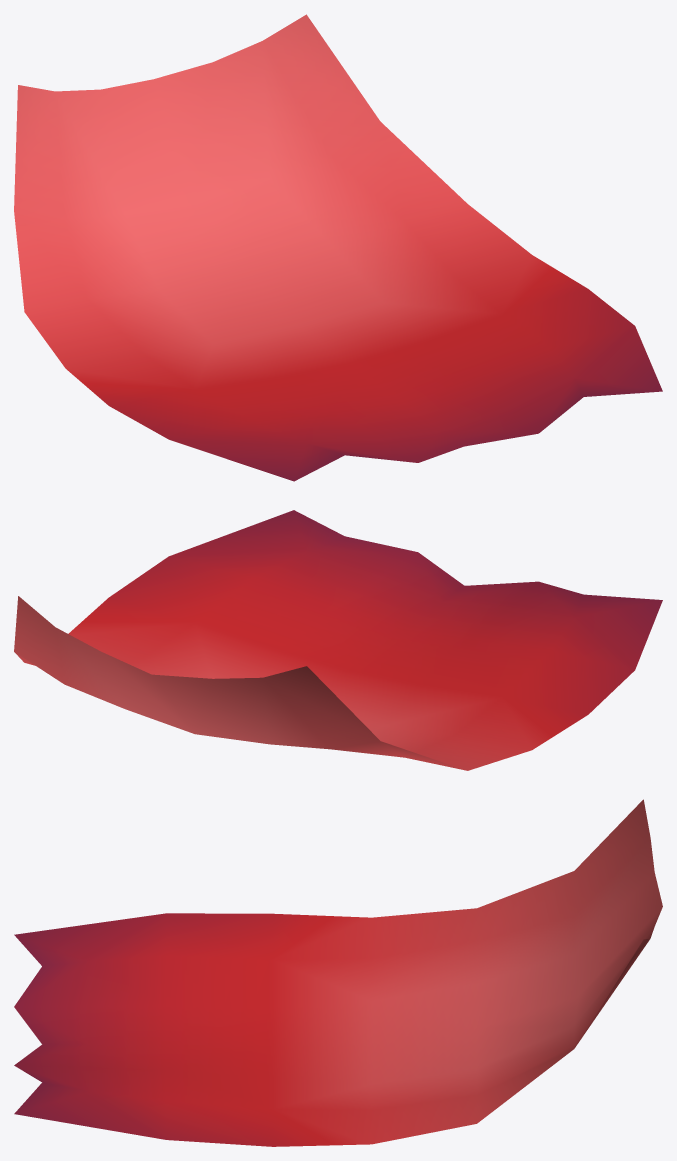
File: Cape.glb
3 views of the same model, one above another, from view 1: azimuth 30°, elevation 25°; view 2: azimuth 150°, elevation 25°; view 3: azimuth 270°, elevation 25° (orthographic).
Parts seen in each view (by area): view 1: Knight_Cape; view 2: Knight_Cape; view 3: Knight_Cape.
Boxes of the visible parts, x1=… form: Knight_Cape: x1=14, y1=14, x2=662, y2=481; Knight_Cape: x1=14, y1=510, x2=662, y2=770; Knight_Cape: x1=14, y1=799, x2=662, y2=1146.
Size of the model in its own units: 0.9708 by 0.3426 by 1.14.
1 material, 1 textured.
